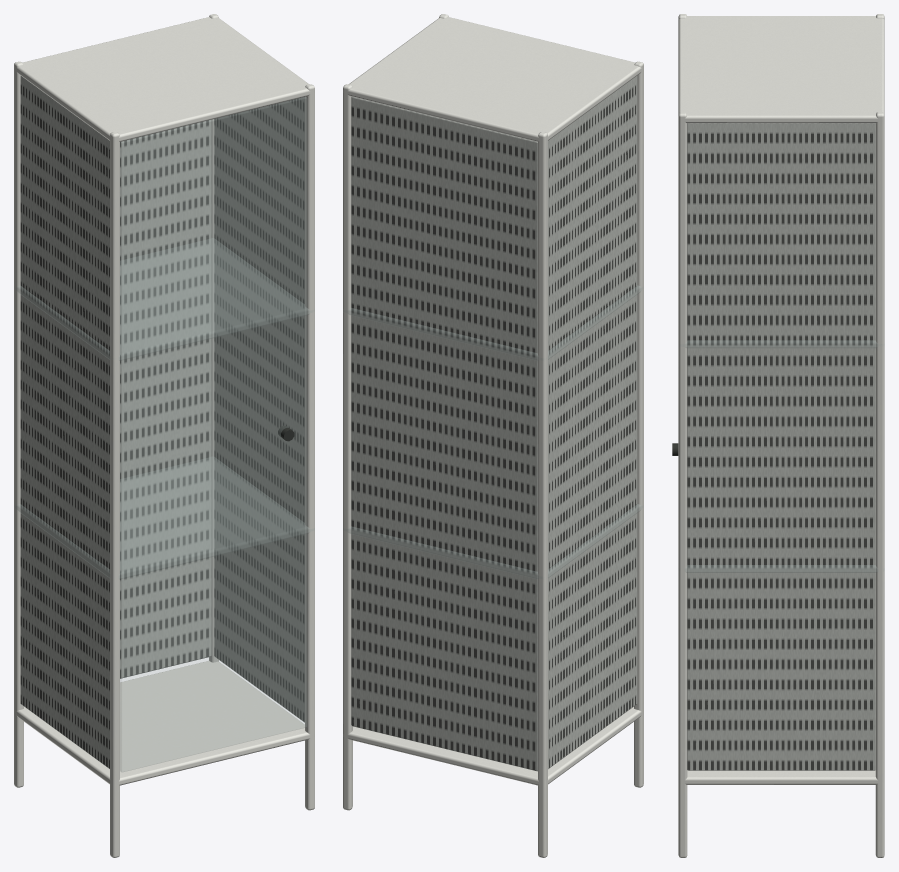
Rendered from baggebo-mobile.glb.
The picture shows the model from 3 angles, left to right: view 1: azimuth 30°, elevation 25°; view 2: azimuth 150°, elevation 25°; view 3: azimuth 270°, elevation 25°; orthographic projection. The views are drawn at different scales.
Visible parts, largest first — view 1: BAGGEBO Glass-door cabinet; view 2: BAGGEBO Glass-door cabinet; view 3: BAGGEBO Glass-door cabinet.
Part boxes in pixels (x1,y1,x2,y2): BAGGEBO Glass-door cabinet: [14, 14, 314, 857]; BAGGEBO Glass-door cabinet: [343, 14, 643, 857]; BAGGEBO Glass-door cabinet: [672, 14, 884, 857].
Bounding box in the file's own units: 0.34 × 1.16 × 0.3.
4 materials, 3 textured.
